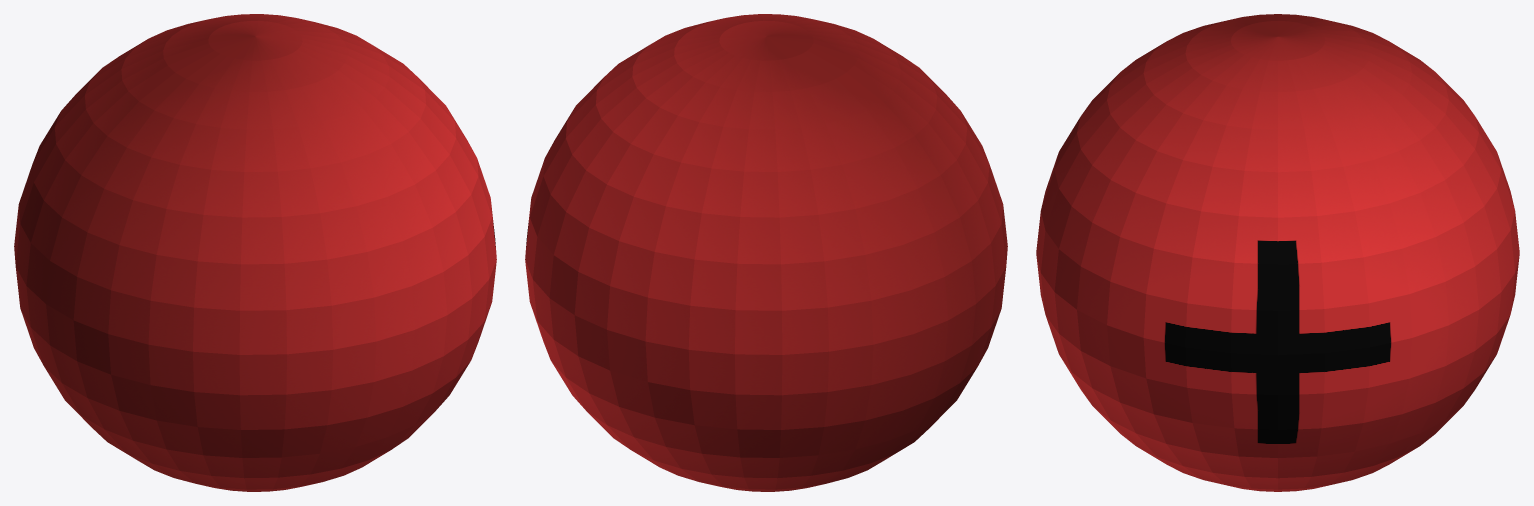
Rendered from positron.dae.
3 views of the same model, side by side, from view 1: azimuth 30°, elevation 25°; view 2: azimuth 150°, elevation 25°; view 3: azimuth 270°, elevation 25° (orthographic).
Parts seen in each view (by area): view 1: Sphere; view 2: Sphere; view 3: Sphere.
Boxes of the visible parts, x1,y1,x2,y2 form: Sphere: (14, 14, 496, 491); Sphere: (525, 14, 1007, 491); Sphere: (1036, 14, 1519, 491).
Bounding box in the file's own units: 2.03 × 2.03 × 2.
Materials: 1 (1 with a texture image).
